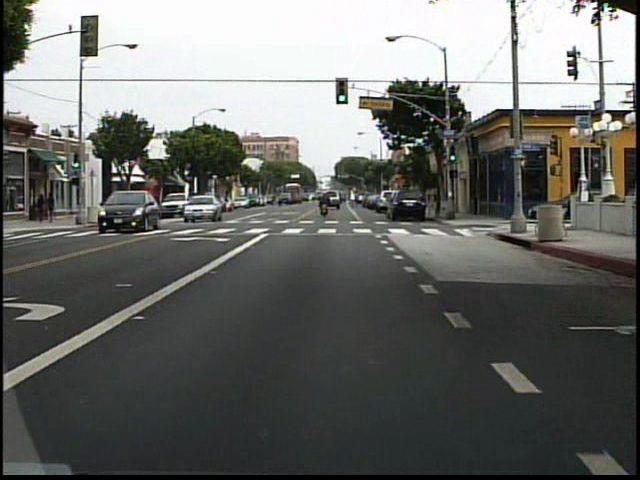person: (37, 192, 50, 225), (48, 190, 60, 221), (318, 189, 330, 218)
